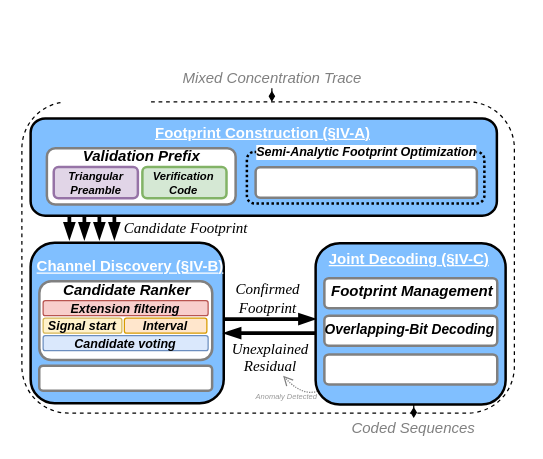
This 543x459 diagram has some shape labels left out. Here are the shapes that lost their labels. From the top down, the centre of each, then its label:
At (x=105, y=97): "MolPeel".
At (x=366, y=181): "Peak–Decay Footprint Model".
At (x=125, y=377): "Footprint Validation".
At (x=410, y=368): "Anomaly Management".
